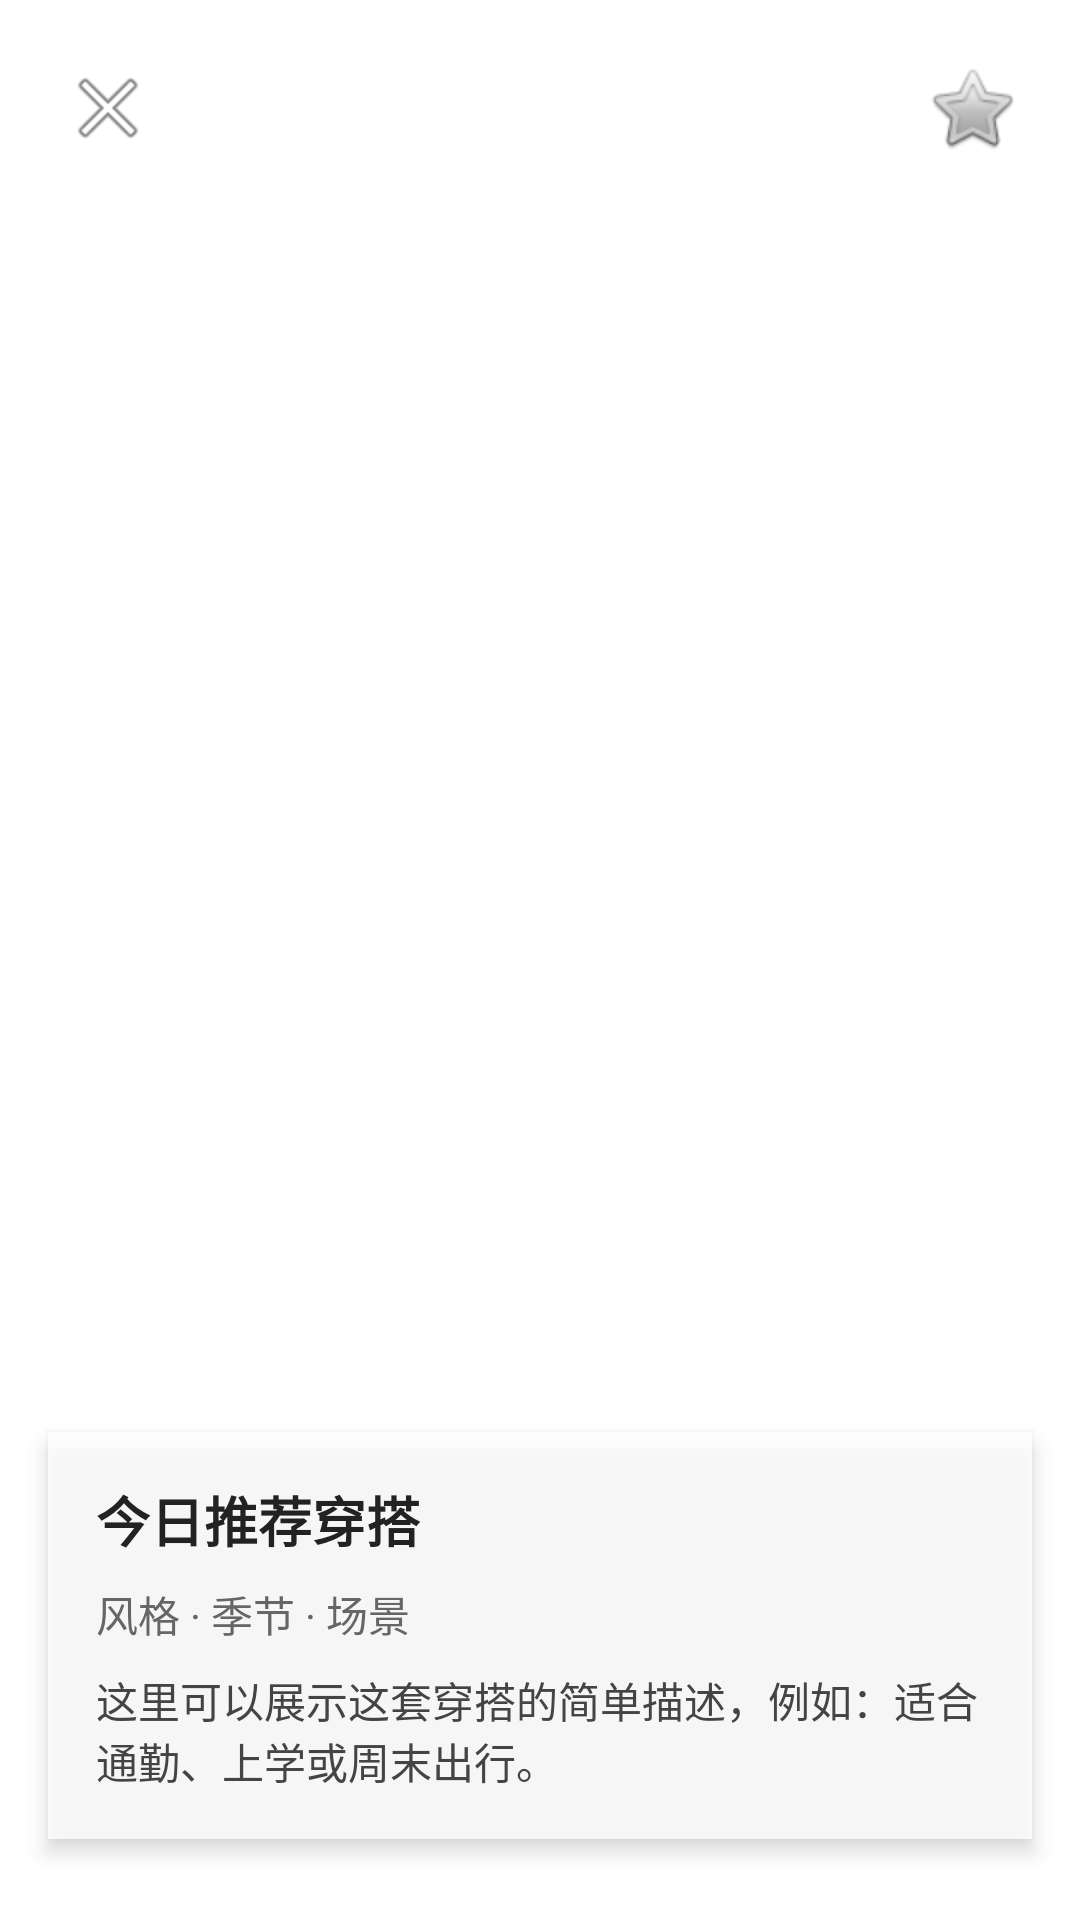

Point at icon controls on the screen. Image size 1080×1920, points as (x,y).
favorite: (973,109)
